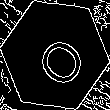O_NW: (24, 22, 86, 88)
